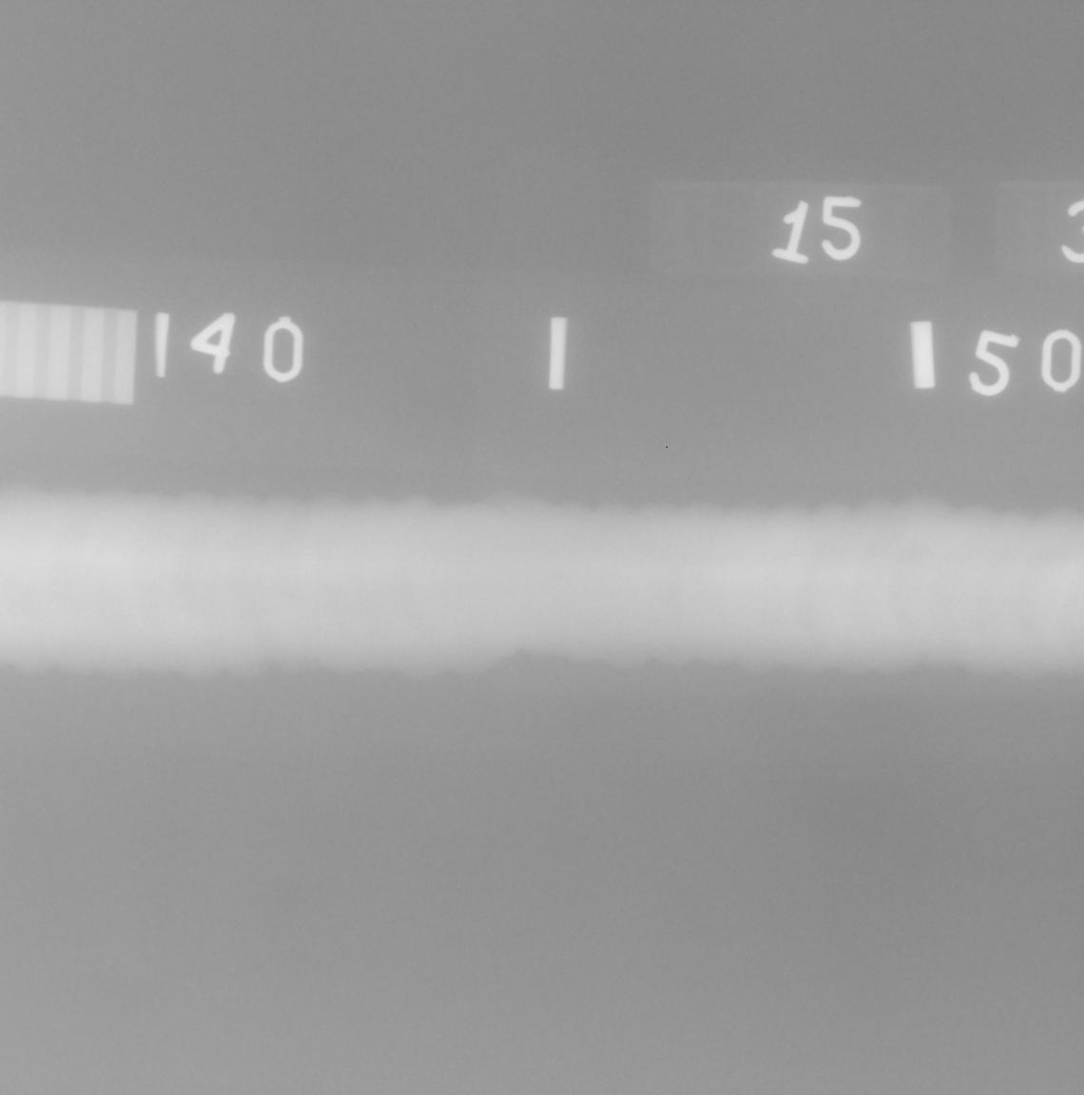Inclusion: (552, 574, 560, 579)
